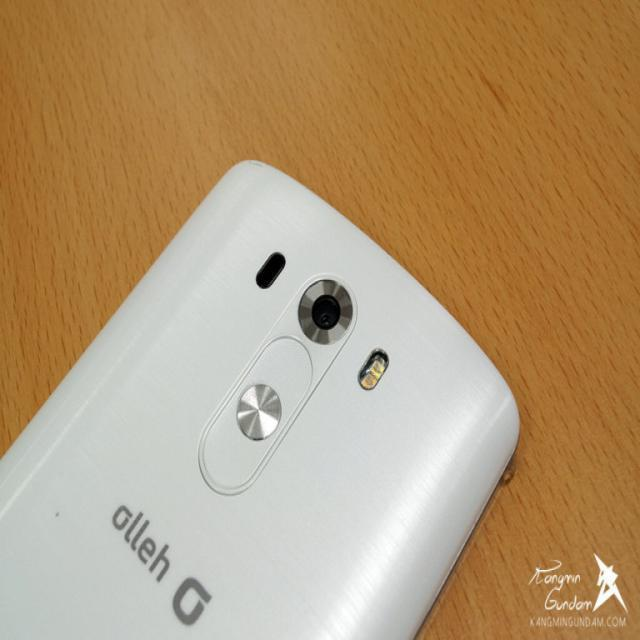lens: (250, 246, 362, 354)
phone: (0, 155, 525, 640)
